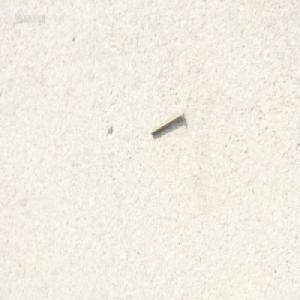Bolt: (150, 108, 183, 136)
